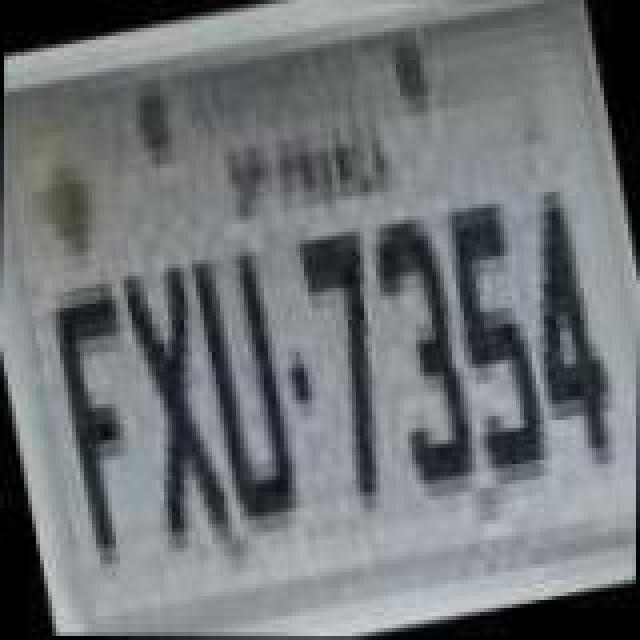3: (360, 206, 488, 506)
4: (502, 176, 634, 480)
5: (432, 196, 560, 496)
7: (288, 214, 416, 518)
F: (38, 282, 166, 566)
U: (182, 240, 310, 536)
X: (108, 250, 240, 558)
